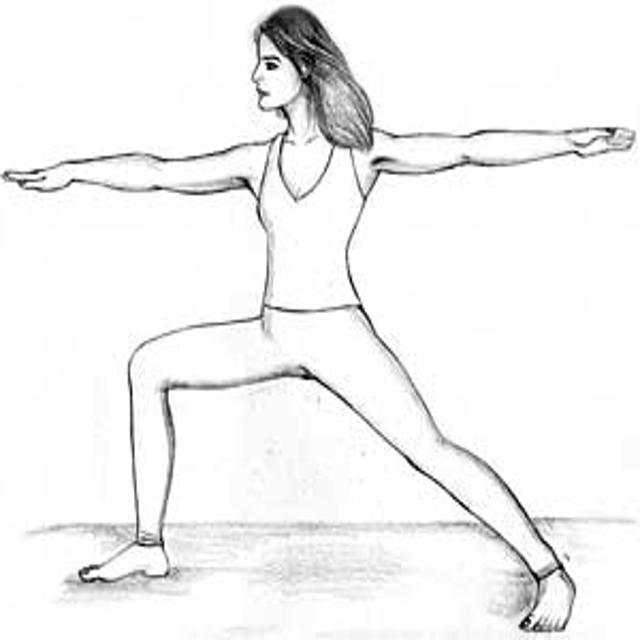Warrior_II: (1, 8, 634, 632)
